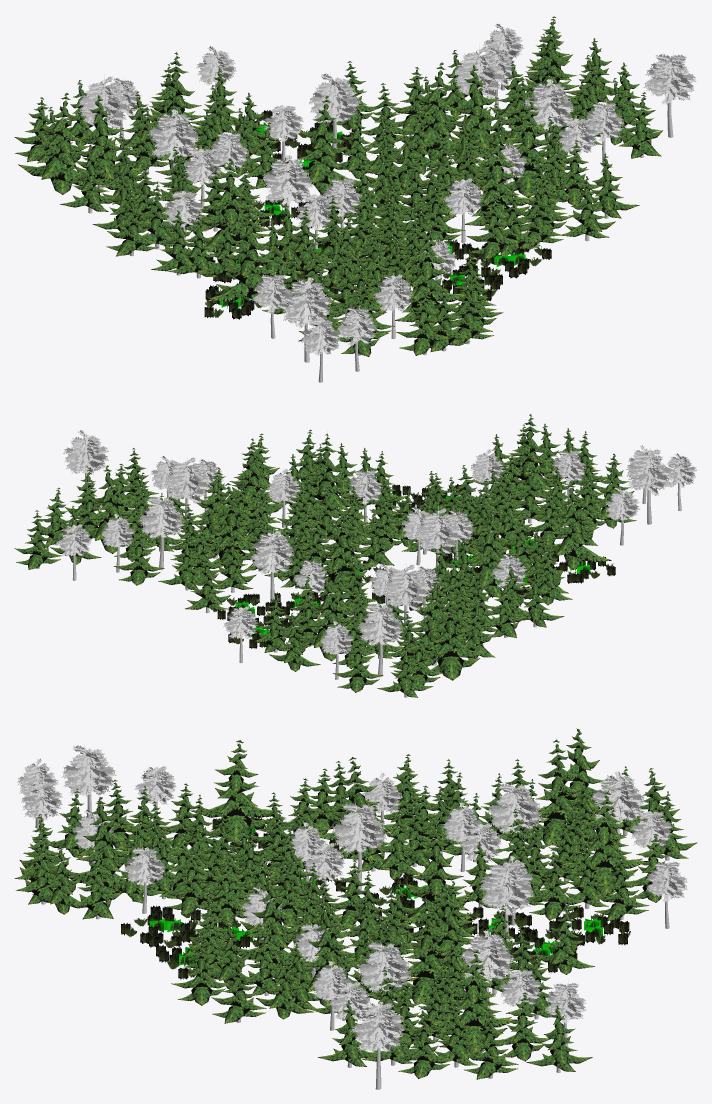
Rendered from tree.fbx.
3 renders of one model, top to bottom at view 1: azimuth 30°, elevation 25°; view 2: azimuth 150°, elevation 25°; view 3: azimuth 270°, elevation 25°, orthographic. The views are drawn at different scales.
Parts seen in each view (by area): view 1: Object_8, Object_5, Object_3, Object_7, Object_6, Object_4, Object_9, Object_11, Object_14, Object_13, Object_12, Object_10; view 2: Object_8, Object_3, Object_5, Object_6, Object_7, Object_4, Object_9, Object_11, Object_14, Object_13, Object_12, Object_10; view 3: Object_5, Object_8, Object_3, Object_6, Object_4, Object_7, Object_9, Object_11, Object_14, Object_12, Object_10, Object_13.
Part boxes in pixels (bbox=[...]): Object_8: bbox=[78, 46, 695, 355]; Object_5: bbox=[106, 16, 662, 317]; Object_3: bbox=[14, 52, 503, 356]; Object_7: bbox=[114, 50, 634, 255]; Object_6: bbox=[27, 61, 639, 248]; Object_4: bbox=[18, 92, 435, 301]; Object_9: bbox=[261, 24, 623, 230]; Object_11: bbox=[204, 110, 551, 319]; Object_14: bbox=[103, 22, 673, 382]; Object_13: bbox=[41, 18, 644, 355]; Object_12: bbox=[205, 112, 546, 317]; Object_10: bbox=[219, 123, 525, 308]; Object_8: bbox=[63, 430, 696, 655]; Object_3: bbox=[254, 414, 636, 697]; Object_5: bbox=[14, 438, 599, 631]; Object_6: bbox=[158, 429, 485, 692]; Object_7: bbox=[69, 433, 406, 668]; Object_4: bbox=[274, 465, 611, 680]; Object_9: bbox=[56, 456, 474, 592]; Object_11: bbox=[210, 484, 615, 648]; Object_14: bbox=[72, 430, 681, 679]; Object_13: bbox=[36, 413, 614, 697]; Object_12: bbox=[212, 485, 613, 644]; Object_10: bbox=[235, 494, 590, 636]; Object_5: bbox=[144, 754, 592, 1079]; Object_8: bbox=[17, 745, 687, 1052]; Object_3: bbox=[14, 739, 679, 920]; Object_6: bbox=[171, 766, 697, 1023]; Object_4: bbox=[153, 728, 608, 944]; Object_7: bbox=[183, 807, 642, 1065]; Object_9: bbox=[289, 803, 586, 1023]; Object_11: bbox=[121, 818, 629, 979]; Object_14: bbox=[35, 744, 669, 1089]; Object_12: bbox=[124, 816, 630, 977]; Object_10: bbox=[149, 828, 602, 966]; Object_13: bbox=[39, 726, 669, 1078].
Size of the model in its own units: 1636 by 275 by 1622.
Materials: 7 (4 with a texture image).
